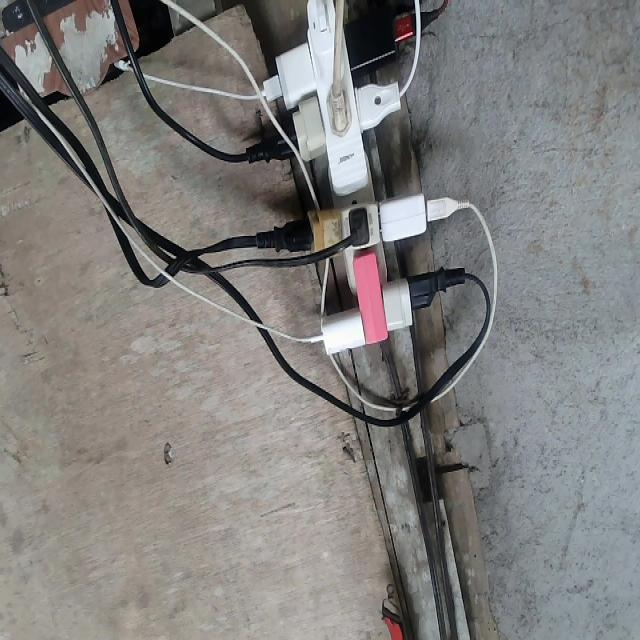-: (245, 0, 453, 355)
